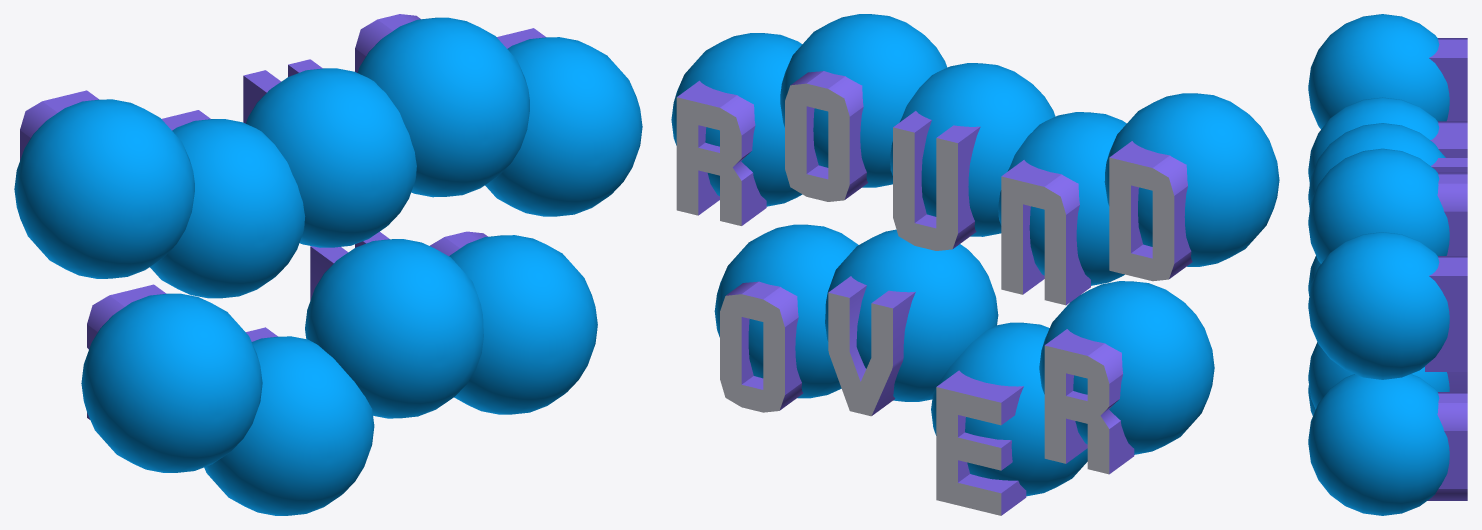
File: round_over.glb
3 views of the same model, side by side, from view 1: azimuth 30°, elevation 25°; view 2: azimuth 150°, elevation 25°; view 3: azimuth 270°, elevation 25° (orthographic). The views are drawn at different scales.
Visible parts, largest first — view 1: sphere (×9), R, D, U, O, V; view 2: sphere (×9), R (×2), O (×2), N, E, D, U, V; view 3: sphere (×7), O (×2), R, D, U, N, V.
Part boxes in pixels (<box>): sphere (×9): <box>14,17,642,515</box>; R: <box>87,284,165,419</box>; D: <box>20,90,98,160</box>; U: <box>243,59,322,123</box>; O: <box>355,14,420,72</box>; V: <box>310,231,389,300</box>; sphere (×9): <box>671,14,1279,496</box>; R (×2): <box>676,80,1134,474</box>; O (×2): <box>720,71,868,412</box>; N: <box>1001,160,1090,305</box>; E: <box>936,370,1026,515</box>; D: <box>1109,141,1192,281</box>; U: <box>893,111,980,250</box>; V: <box>828,276,915,416</box>; sphere (×7): <box>1308,14,1449,515</box>; O (×2): <box>1427,172,1467,500</box>; R: <box>1425,256,1467,371</box>; D: <box>1429,38,1467,121</box>; U: <box>1430,140,1467,172</box>; N: <box>1432,121,1467,139</box>; V: <box>1447,372,1467,391</box>.
Bounding box in the file's own units: 2.7 × 1.9 × 0.75.
